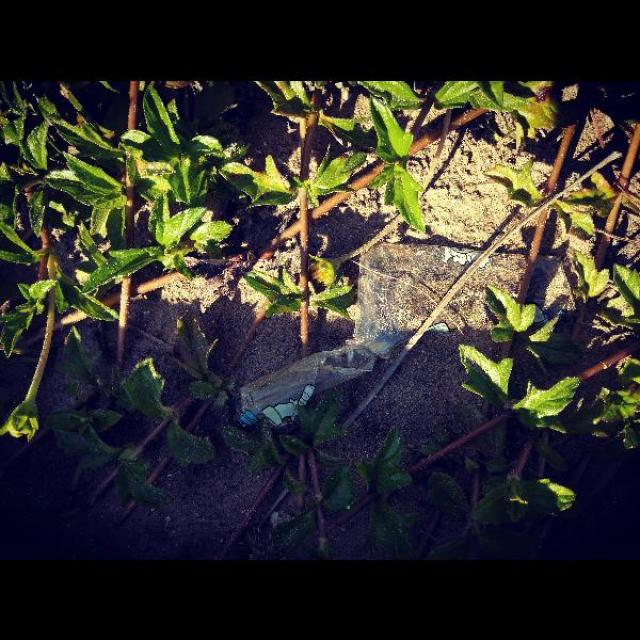plastic_waste: (351, 234, 591, 347), (218, 326, 410, 443)
